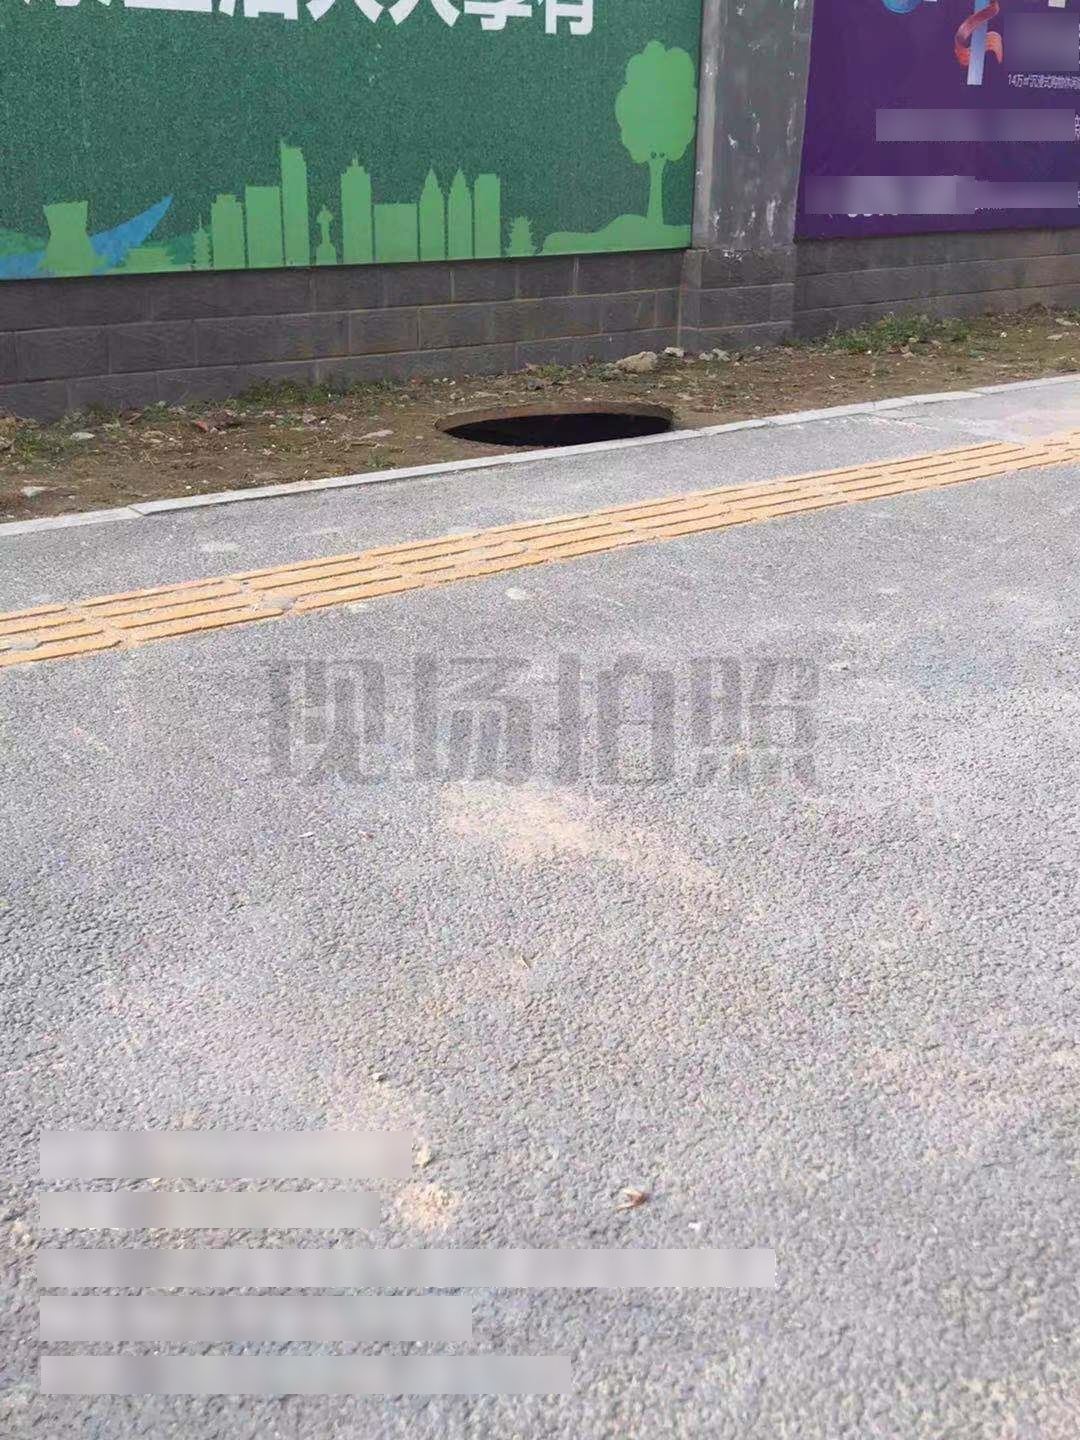lose: (432, 397, 684, 456)
